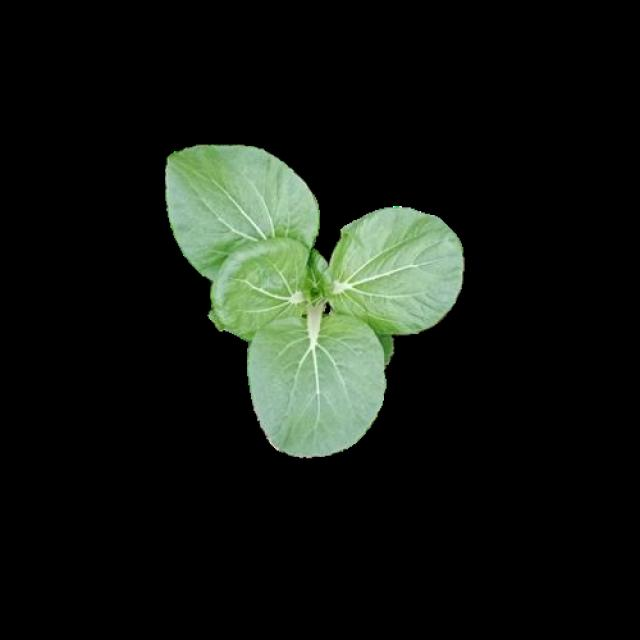healthy: (162, 142, 464, 456)
not-mature: (164, 145, 466, 458)
